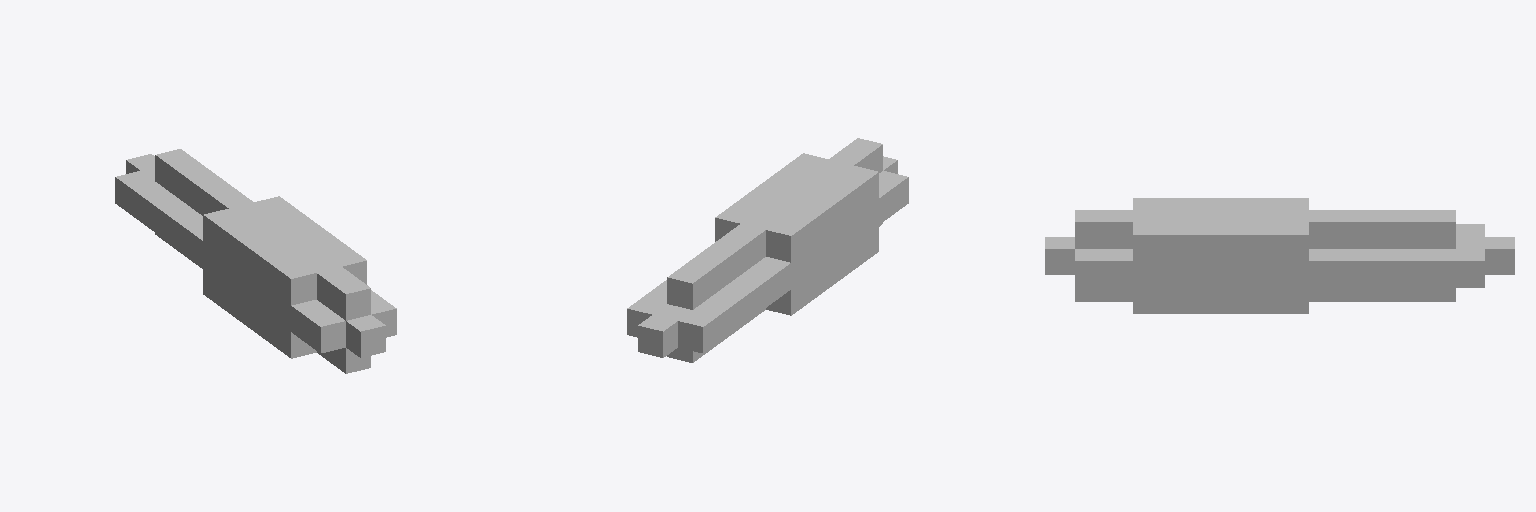
File: penImposter.obj
3 renders of one model, left to right at view 1: azimuth 30°, elevation 25°; view 2: azimuth 150°, elevation 25°; view 3: azimuth 270°, elevation 25°, orthographic.
Size of the model in its own units: 3 by 3 by 16.